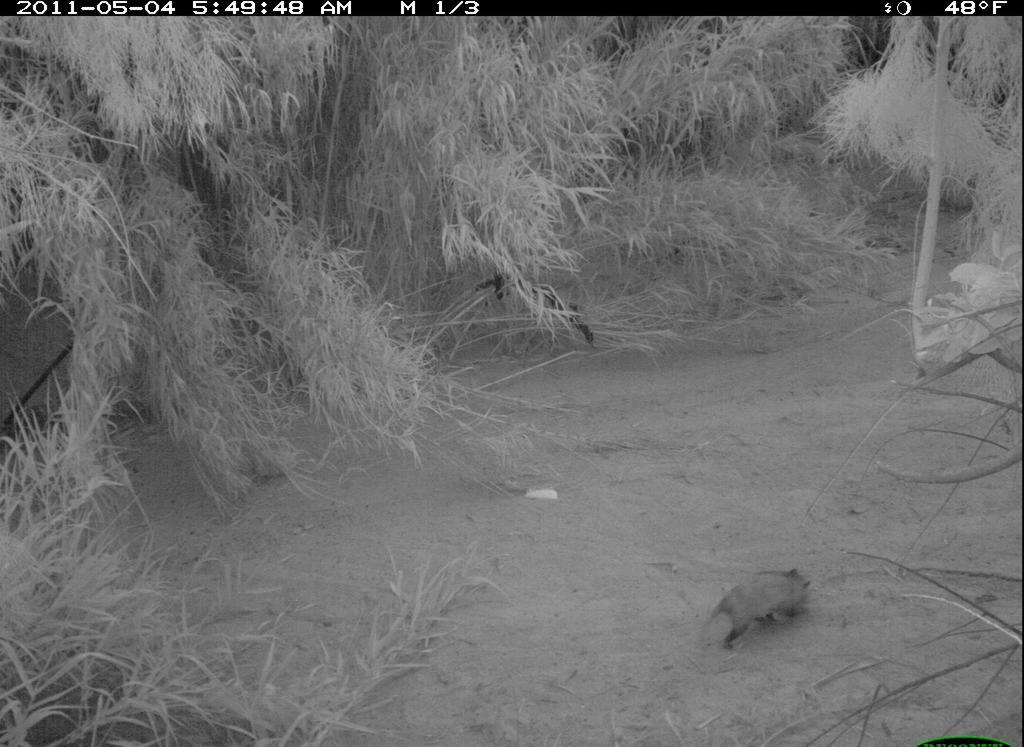opossum: (703, 568, 813, 666)
